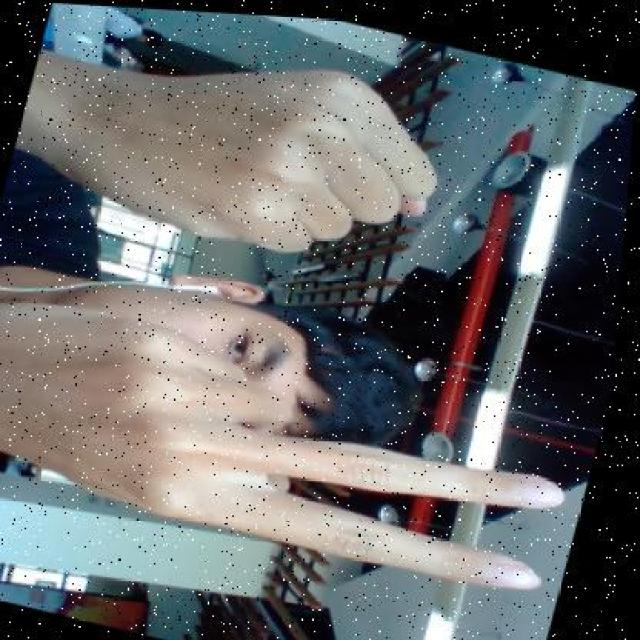Paper: (39, 334, 613, 598)
Rock: (133, 11, 464, 291)
